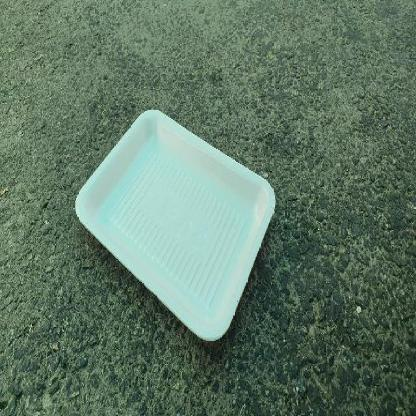Glass Cup: (74, 110, 277, 341), (75, 110, 276, 340)
